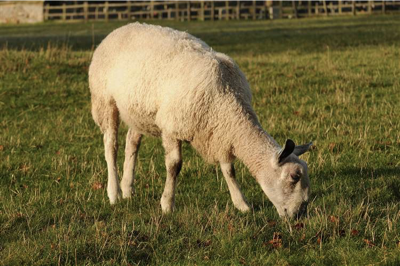koyun: (88, 22, 314, 222)
